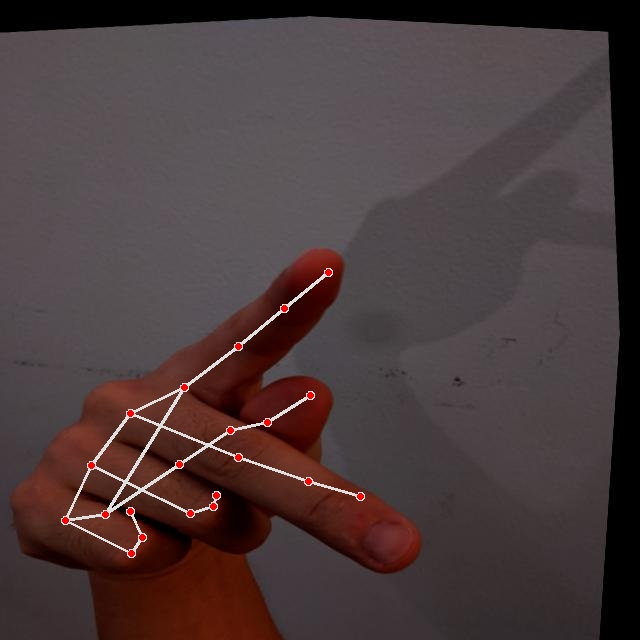P: (0, 213, 459, 616)
